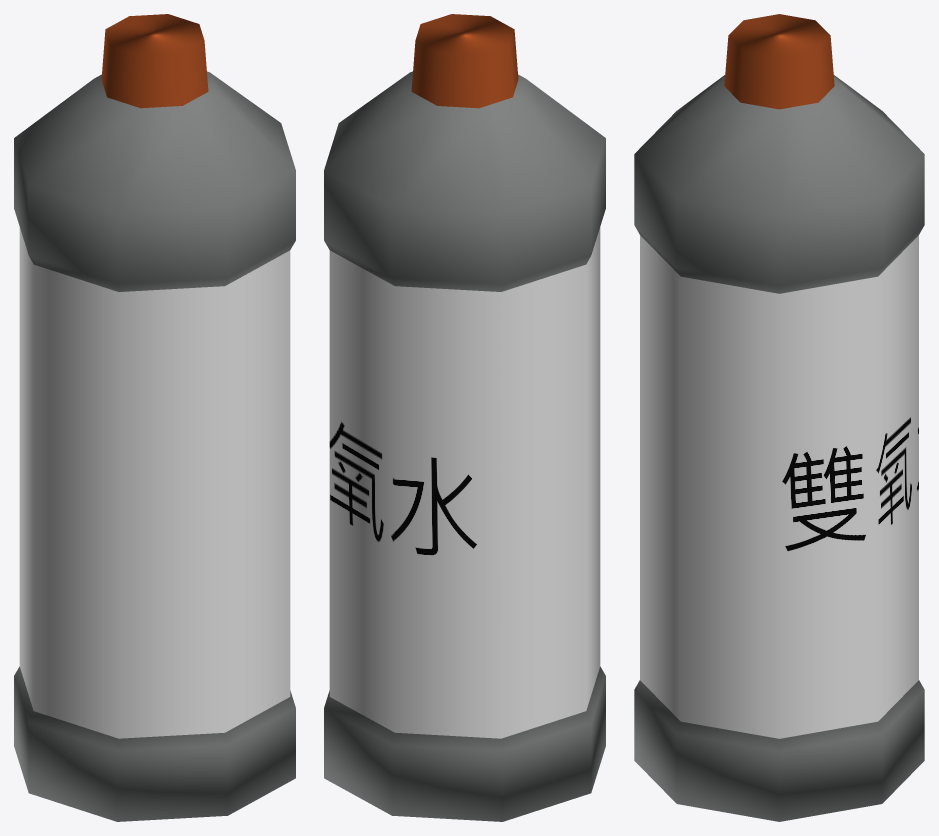
File: HHOO.fbx
3 renders of one model, left to right at view 1: azimuth 30°, elevation 25°; view 2: azimuth 150°, elevation 25°; view 3: azimuth 270°, elevation 25°, orthographic.
Parts seen in each view (by area): view 1: HHOO1; view 2: HHOO1; view 3: HHOO1.
Boxes of the visible parts, left/top/right/bottom form: HHOO1: left=14, top=14, right=295, bottom=821; HHOO1: left=324, top=14, right=605, bottom=821; HHOO1: left=634, top=14, right=924, bottom=821.
Bounding box in the file's own units: 14.98 × 41.22 × 14.98.
Materials: 3 (1 with a texture image).
